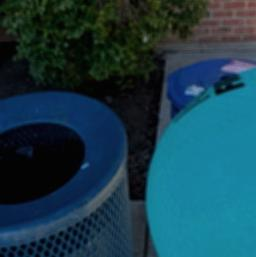algae: (143, 67, 256, 257)
